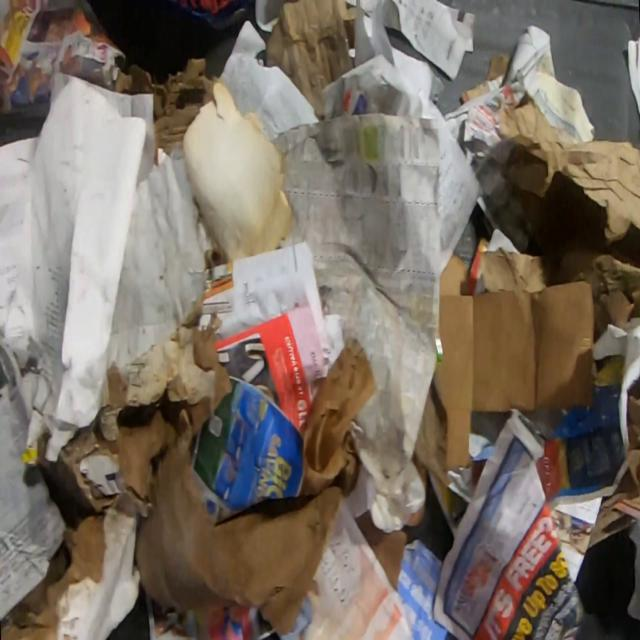cardboard: (134, 328, 343, 636), (432, 280, 592, 468), (0, 489, 153, 639), (43, 399, 193, 529), (112, 58, 222, 161), (266, 0, 356, 122), (440, 254, 470, 296)
